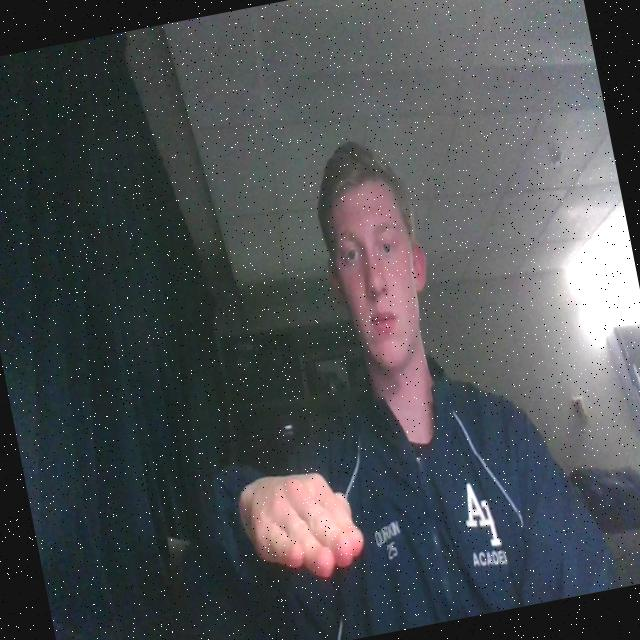paper: (228, 452, 376, 600)
